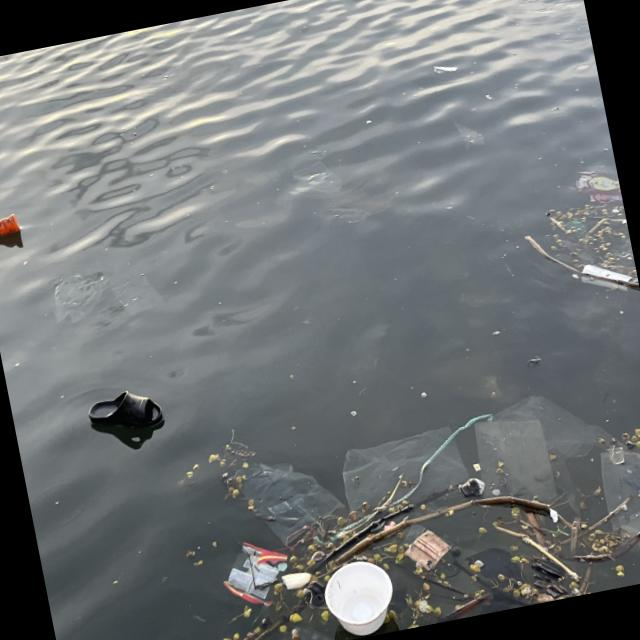foam: (320, 556, 401, 640), (282, 571, 315, 592)
plastic bag: (221, 545, 283, 606)
plastic bottle: (466, 541, 534, 616), (1, 214, 23, 244)
